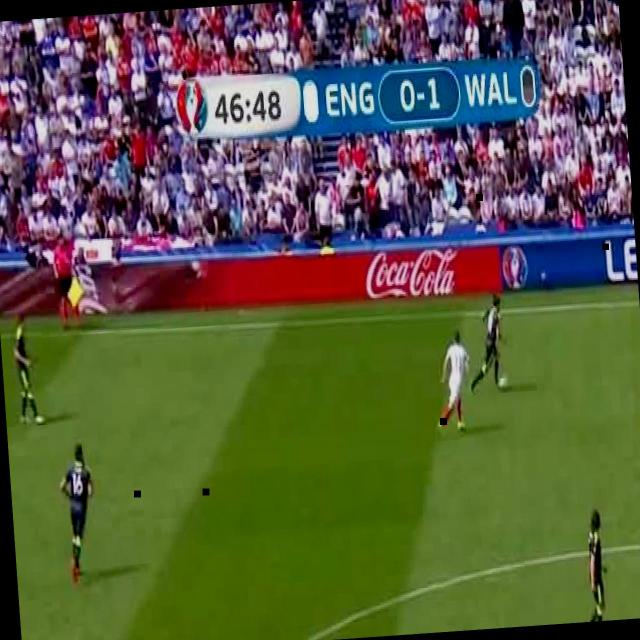ball: (498, 378, 506, 388)
player-white: (58, 443, 100, 584), (430, 331, 475, 433), (464, 296, 508, 394), (576, 508, 609, 622), (11, 316, 45, 425), (52, 234, 78, 332)
